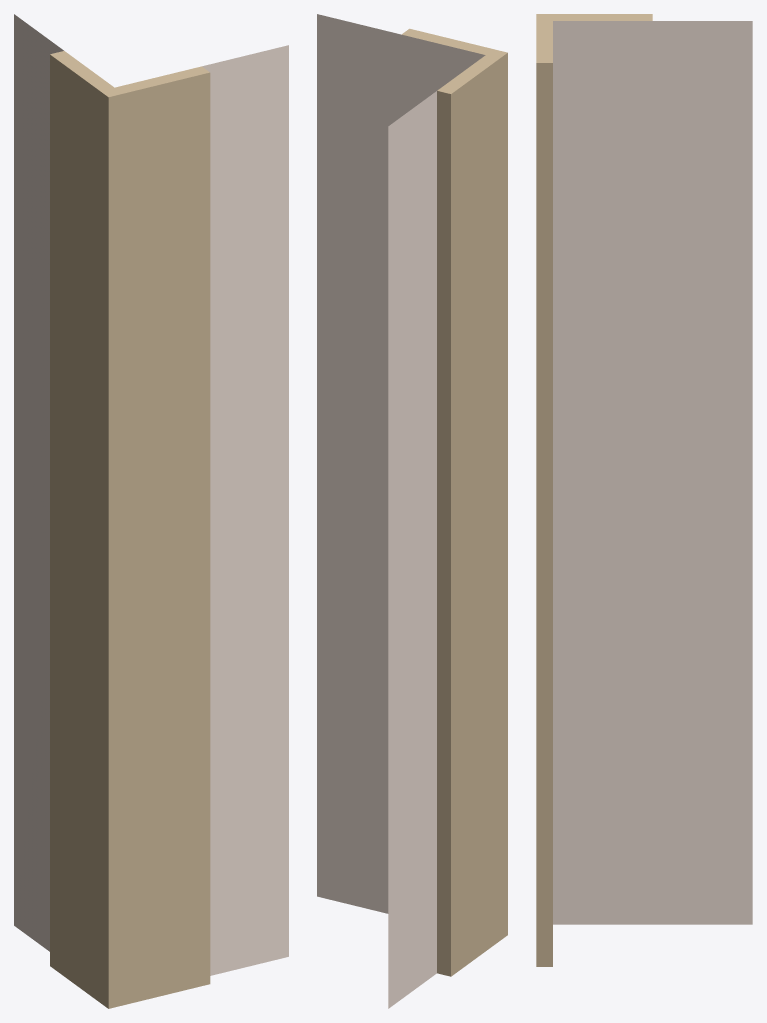
File: mid-c1_close.fbx
The picture shows the model from 3 angles, left to right: view 1: azimuth 30°, elevation 25°; view 2: azimuth 150°, elevation 25°; view 3: azimuth 270°, elevation 25°; orthographic projection. The views are drawn at different scales.
Visible parts, largest first — view 1: a2001/200/mid-c1_close; view 2: a2001/200/mid-c1_close; view 3: a2001/200/mid-c1_close.
Part boxes in pixels (x1,y1,x2,y2): a2001/200/mid-c1_close: [14, 14, 288, 1008]; a2001/200/mid-c1_close: [317, 14, 507, 1008]; a2001/200/mid-c1_close: [536, 14, 752, 966].
Size of the model in its own units: 0.65 by 3 by 0.65.
